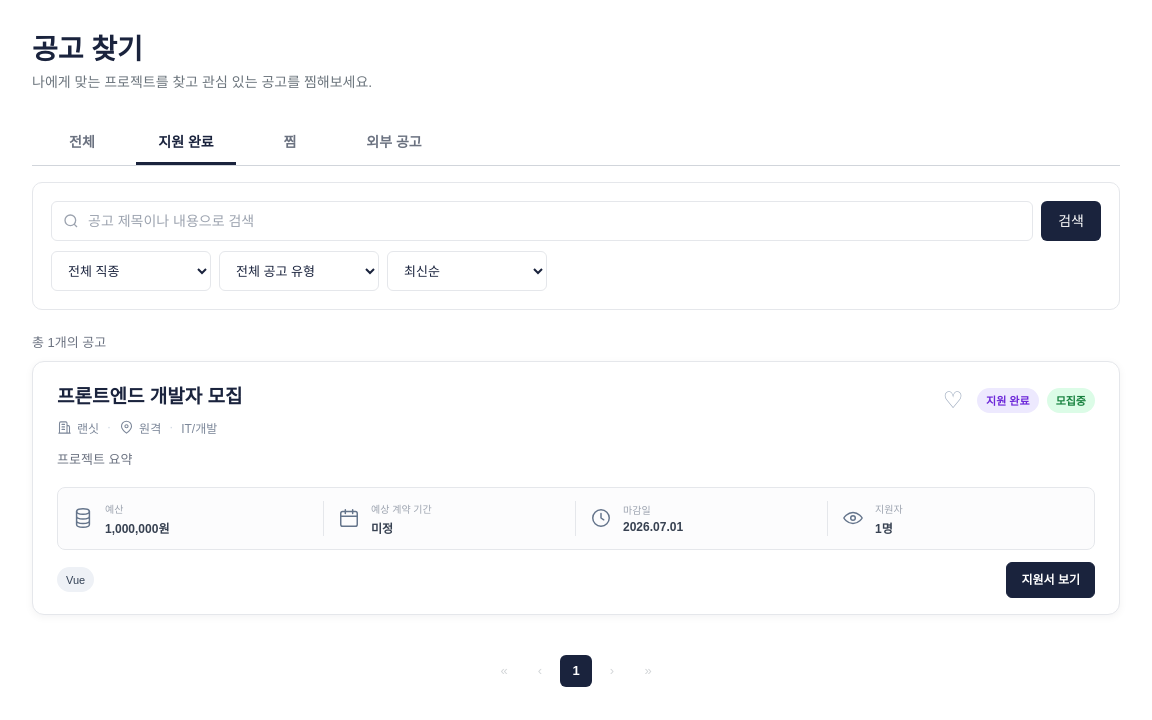
Test: RecruitmentListPage › shows the external jobs tab and loads read-only external job cards
The image size is (1152, 720).
Click the tab "외부 공고" at (394, 142), box 344,118 -> 444,165
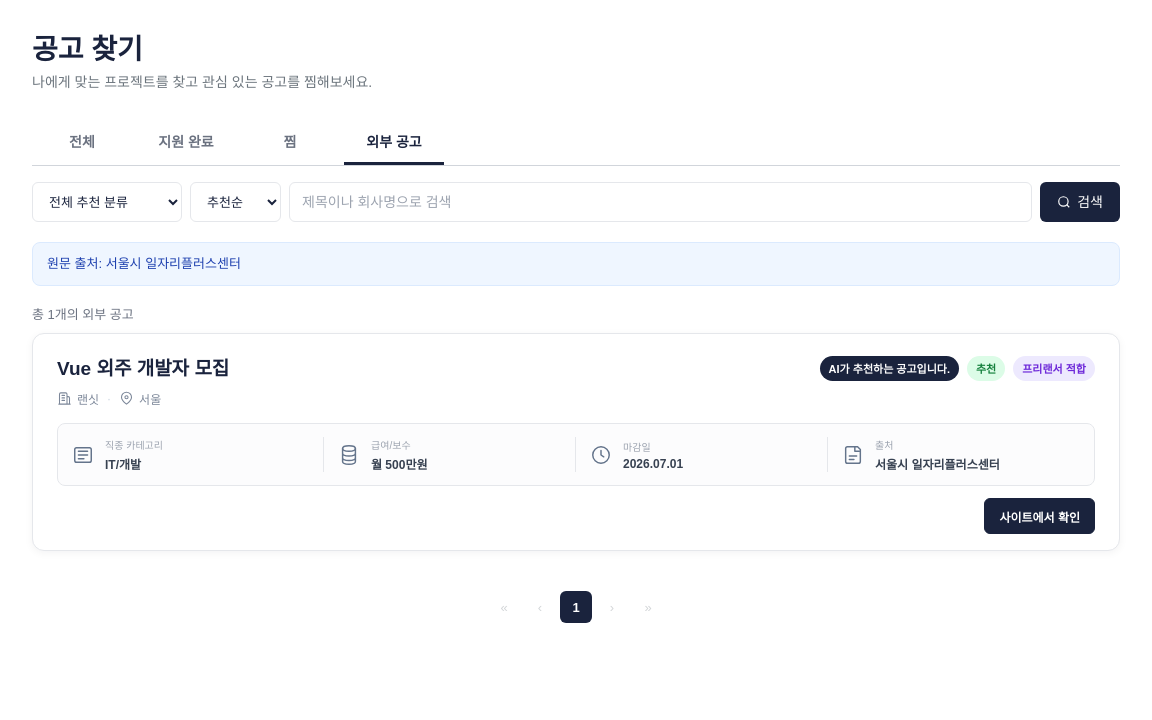
Check: the text "Vue 외주 개발자 모집" is shown, box 57,356 -> 229,382
Check: the text "원문 출처: 서울시 일자리플러스센터" is shown, box 32,242 -> 1120,286
Check: the link with class "source-link" reads "사이트에서 확인", box 984,498 -> 1095,534
